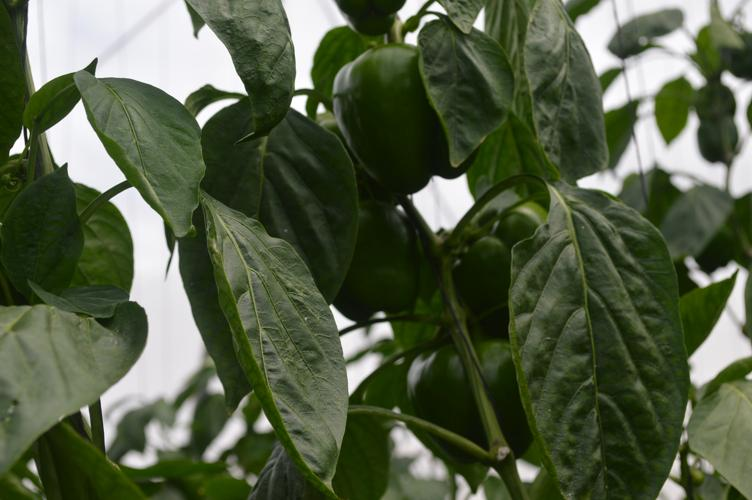BellPepper: (329, 44, 464, 188), (401, 338, 526, 460), (451, 201, 545, 328), (325, 201, 420, 323)
